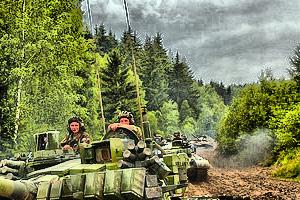tanks: (1, 132, 253, 200), (167, 139, 211, 184)
